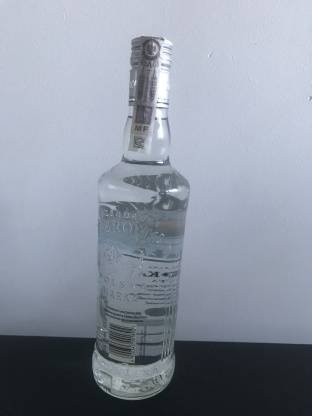nakretka: (125, 31, 175, 112)
